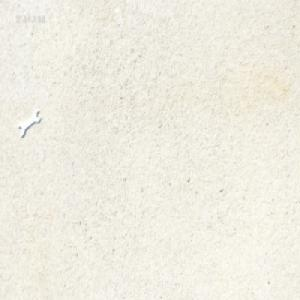Wrench: (18, 105, 41, 136)
